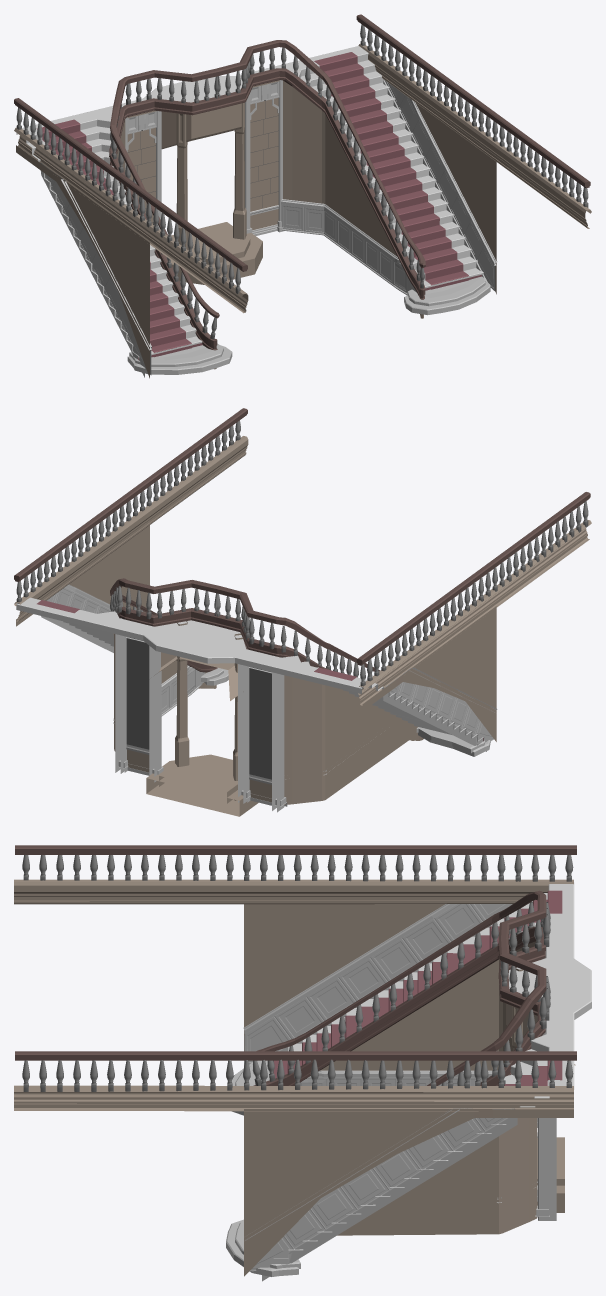
The model's file is StairsDouble.fbx.
The picture shows the model from 3 angles, top to bottom: view 1: azimuth 30°, elevation 25°; view 2: azimuth 150°, elevation 25°; view 3: azimuth 270°, elevation 25°; orthographic projection. The views are drawn at different scales.
Parts seen in each view (by area): view 1: StairsDouble; view 2: StairsDouble; view 3: StairsDouble.
Part boxes in pixels (bbox=[...]): StairsDouble: bbox=[14, 14, 591, 378]; StairsDouble: bbox=[14, 408, 591, 816]; StairsDouble: bbox=[14, 845, 591, 1281].
Size of the model in its own units: 13.26 by 7.16 by 15.21.
